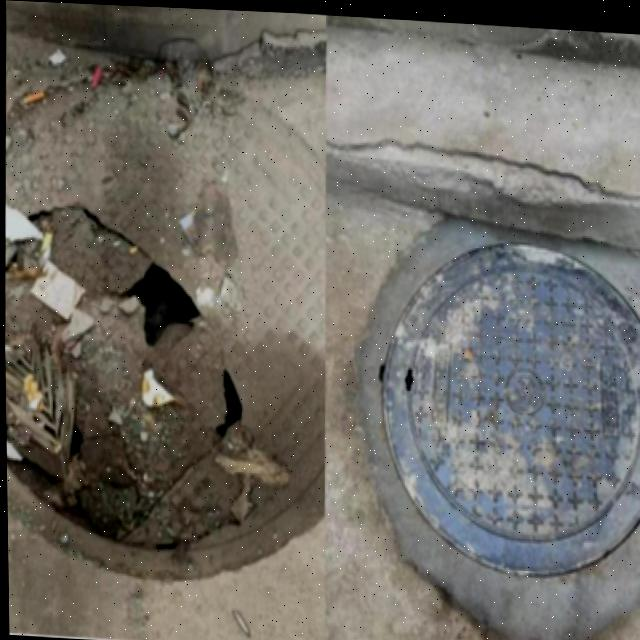manhole: (1, 54, 330, 584)
